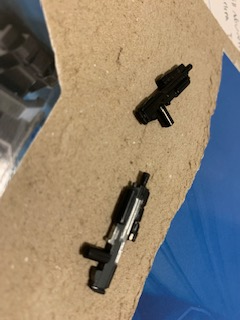rifle: (77, 171, 152, 296), (132, 61, 194, 131)
